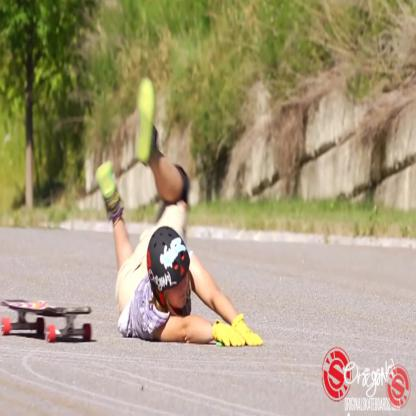Fall_Down: (93, 74, 266, 352)
